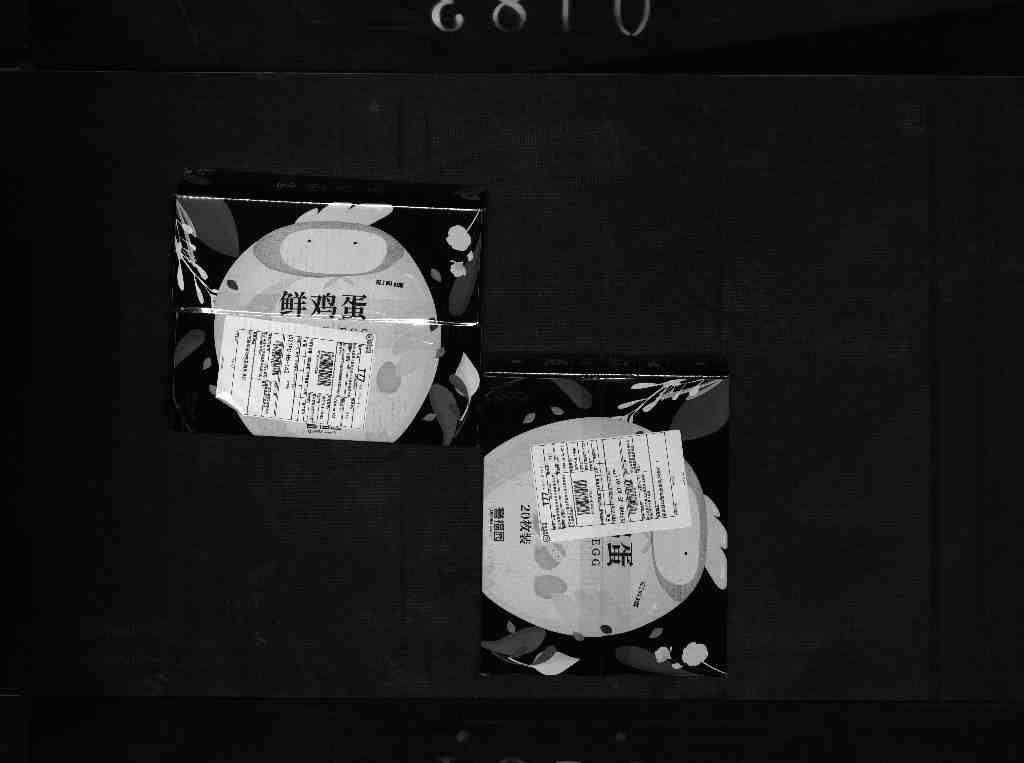box: (154, 181, 485, 471), (471, 371, 740, 681)
